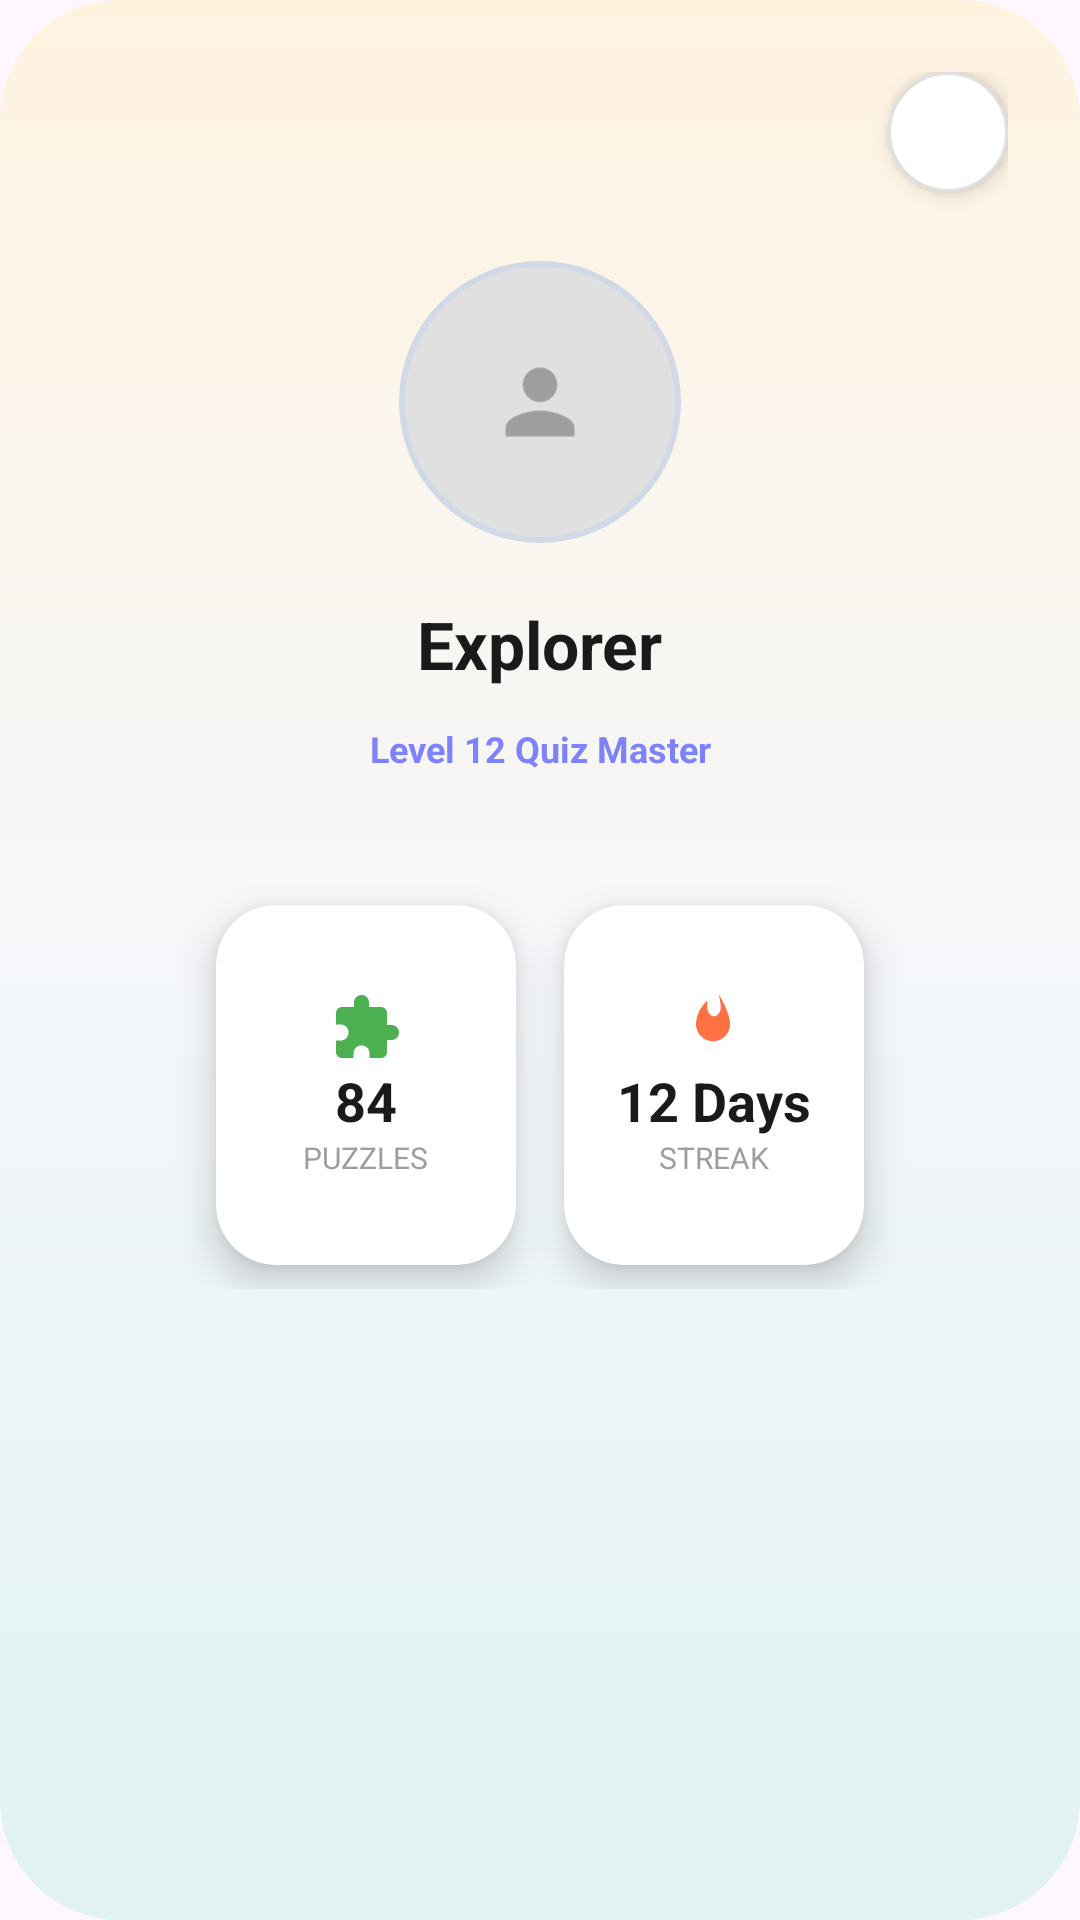

Named icons in this screenshot (1080w x 1920h) and their centers, point (x, y):
fire: point (713, 1018)
